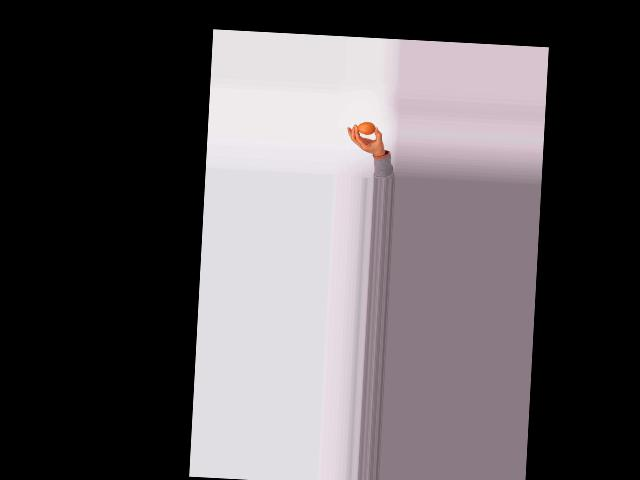egg: (357, 121, 375, 134)
